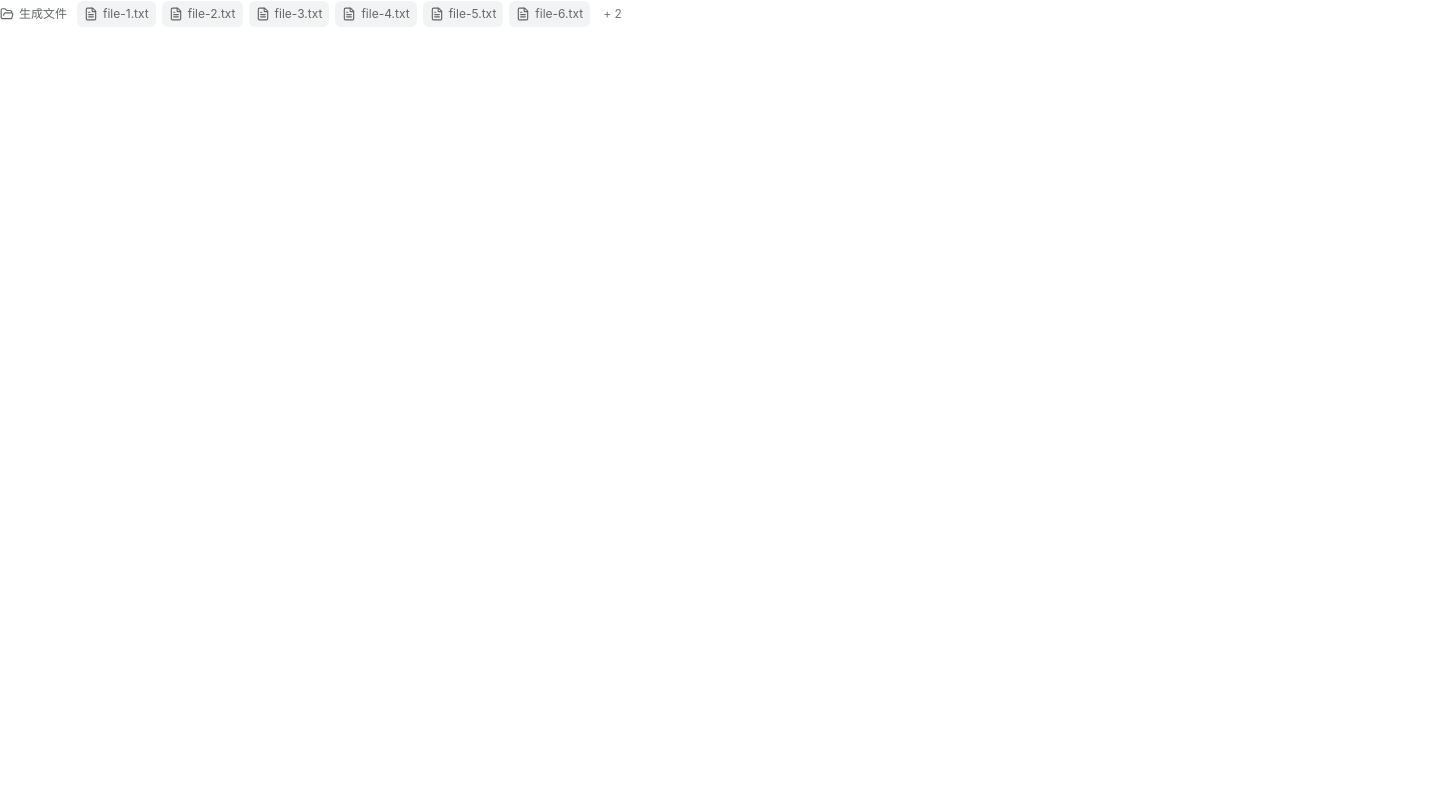
Test case: ProducedFiles › opens an accessible complete list when responsive chips hide files
The width and height of the screenshot is (1440, 810).
Click the button named "查看全部 8 个生成文件" at {"x": 613, "y": 14}, box [596, 0, 629, 28]
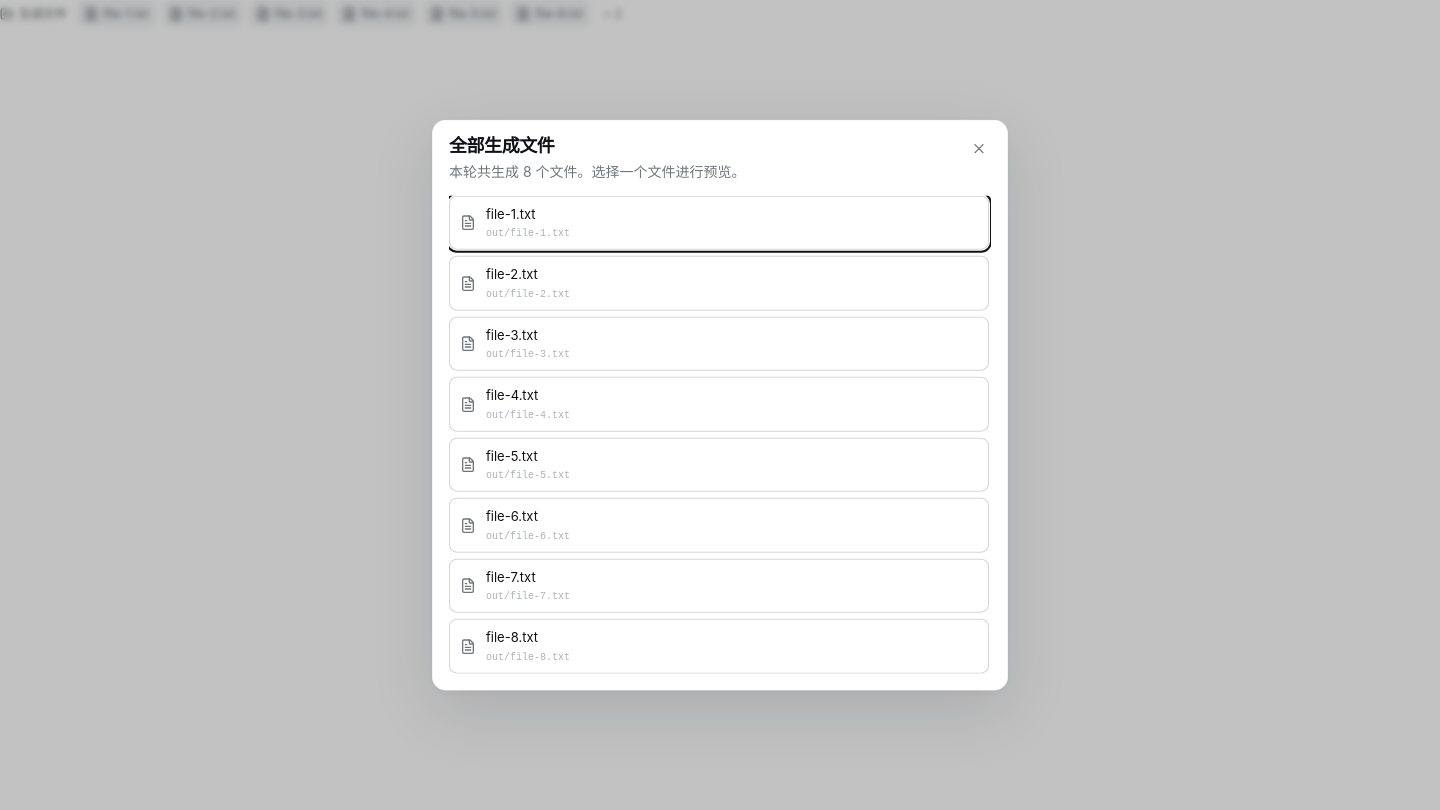
Click the button "file-8.txt out/file-8.txt" at {"x": 512, "y": 637}, box [449, 619, 989, 673]
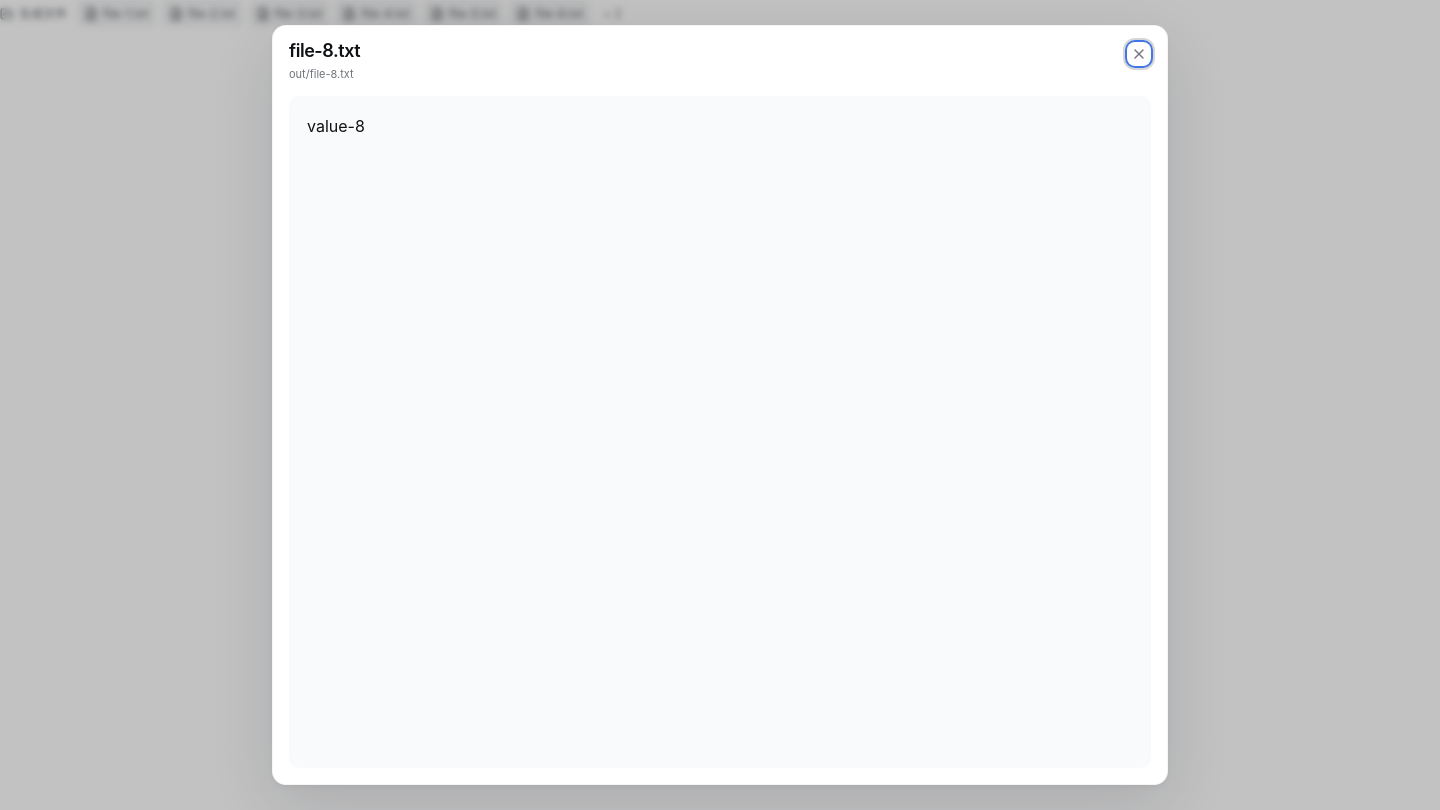
Expected: the text "value-8" is shown, [307, 116, 365, 136]
